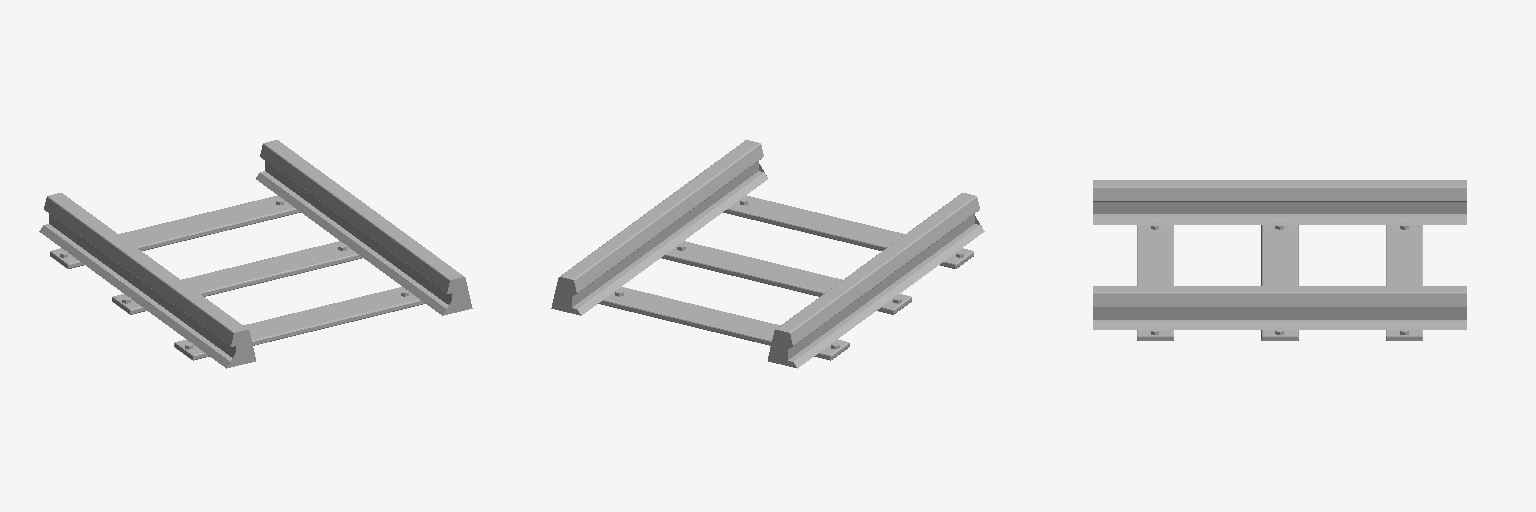
File: rail1.obj
The picture shows the model from 3 angles: view 1: azimuth 30°, elevation 25°; view 2: azimuth 150°, elevation 25°; view 3: azimuth 270°, elevation 25°; orthographic projection.
Size of the model in its own units: 250 by 35.02 by 300.